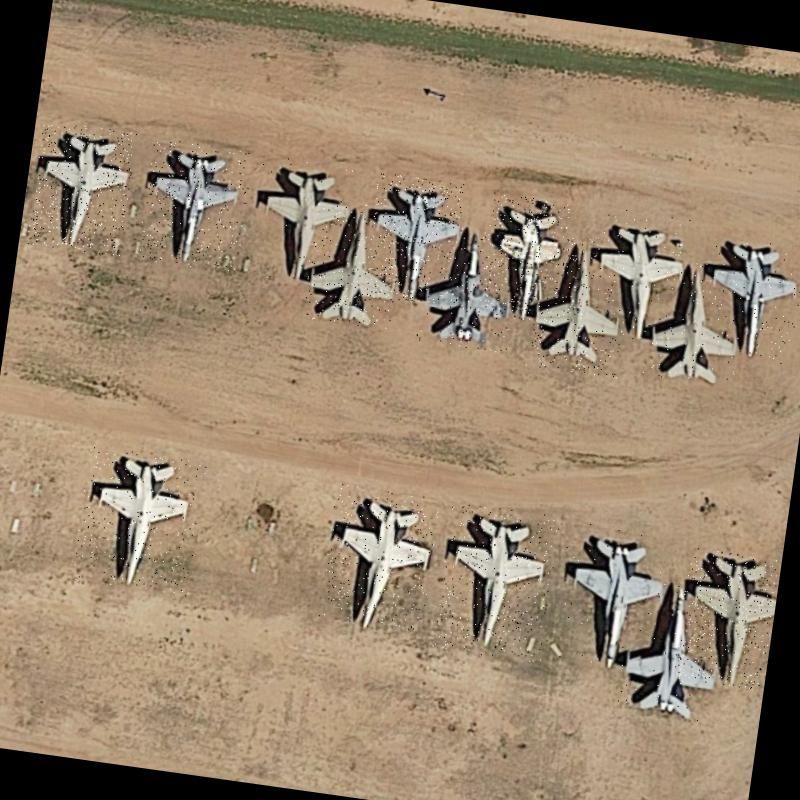A16: (431, 501, 560, 663), (70, 446, 206, 598), (547, 519, 668, 676), (318, 482, 440, 632), (615, 572, 726, 723), (525, 230, 635, 378), (136, 137, 253, 273), (672, 547, 780, 690), (26, 119, 136, 256), (585, 206, 691, 348), (246, 155, 357, 290), (642, 256, 752, 390), (300, 197, 407, 330), (361, 172, 465, 308), (415, 224, 522, 354), (694, 235, 800, 366), (477, 192, 570, 325)
